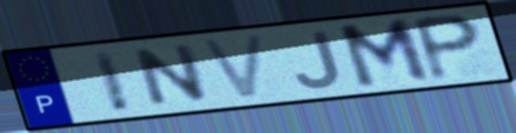I: (88, 47, 135, 115)
J: (292, 28, 345, 91)
M: (334, 16, 435, 92)
N: (132, 41, 212, 109)
P: (409, 12, 486, 84)
V: (197, 31, 269, 103)
